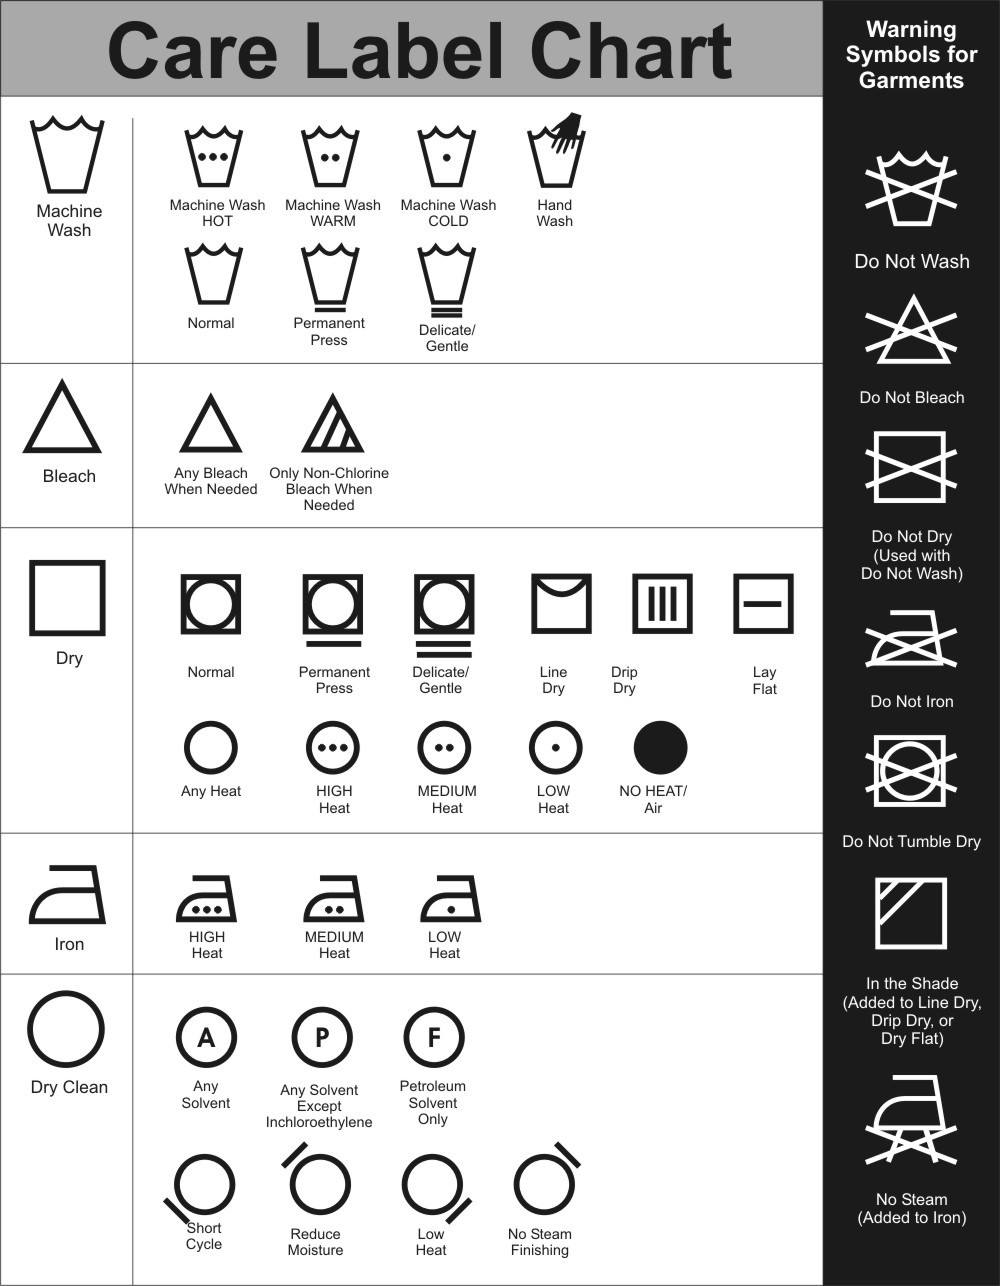do_not_bleach: (846, 293, 972, 376)
do_not_iron: (853, 609, 967, 676)
do_not_wash: (853, 137, 973, 237)
